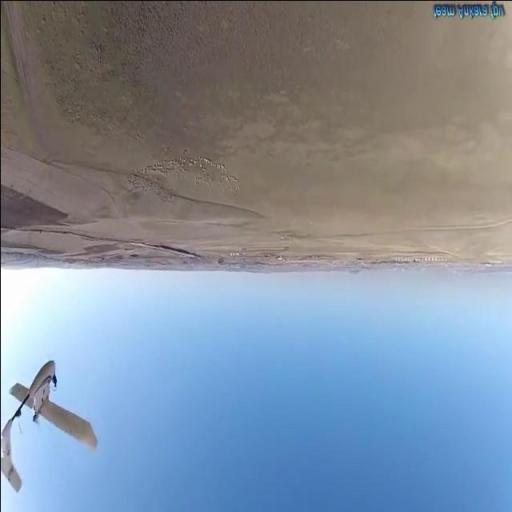uav: (0, 358, 96, 493)
